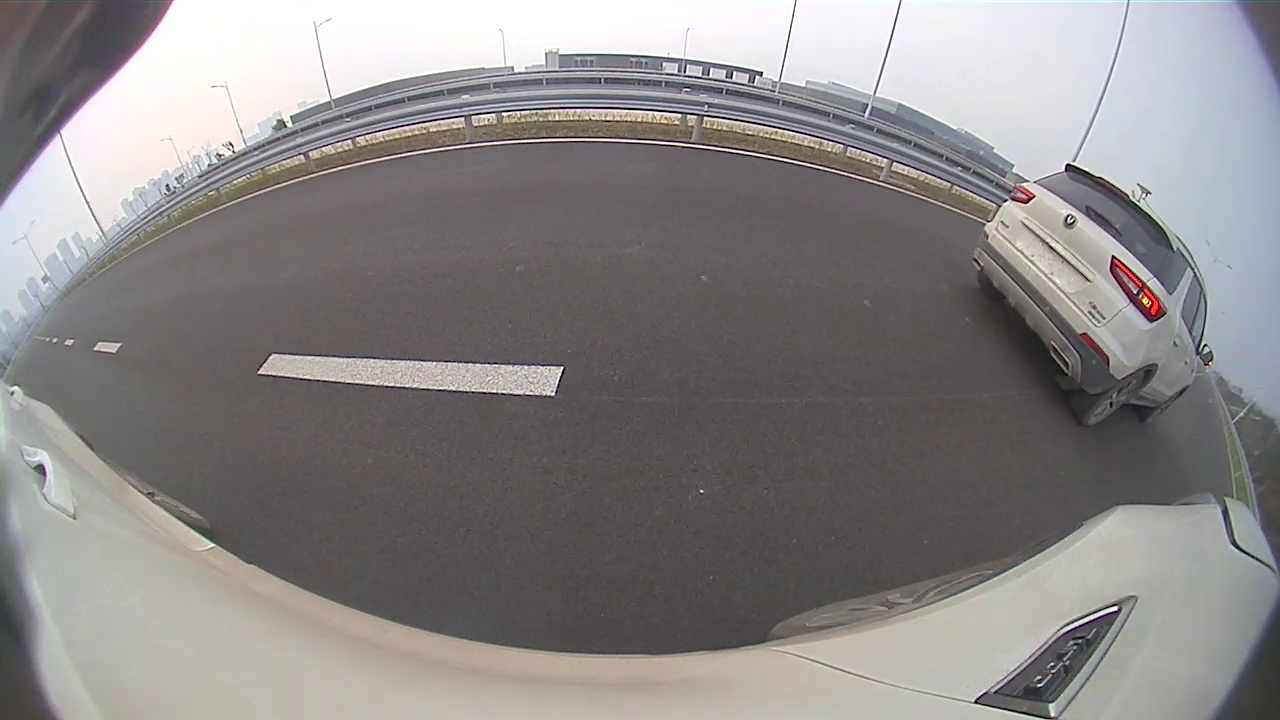car: (972, 163, 1214, 428)
rear: (1083, 371, 1146, 429)
